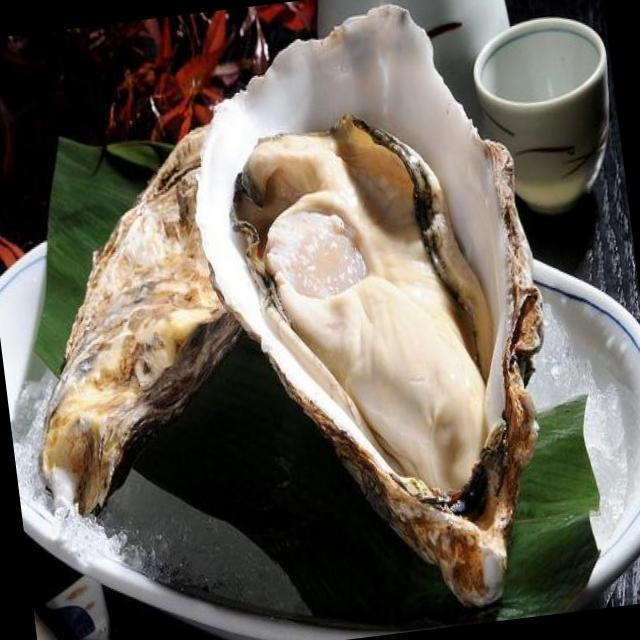Oyster- Indeterminate: (0, 118, 268, 522)
Oyster-Open: (168, 0, 579, 640)
